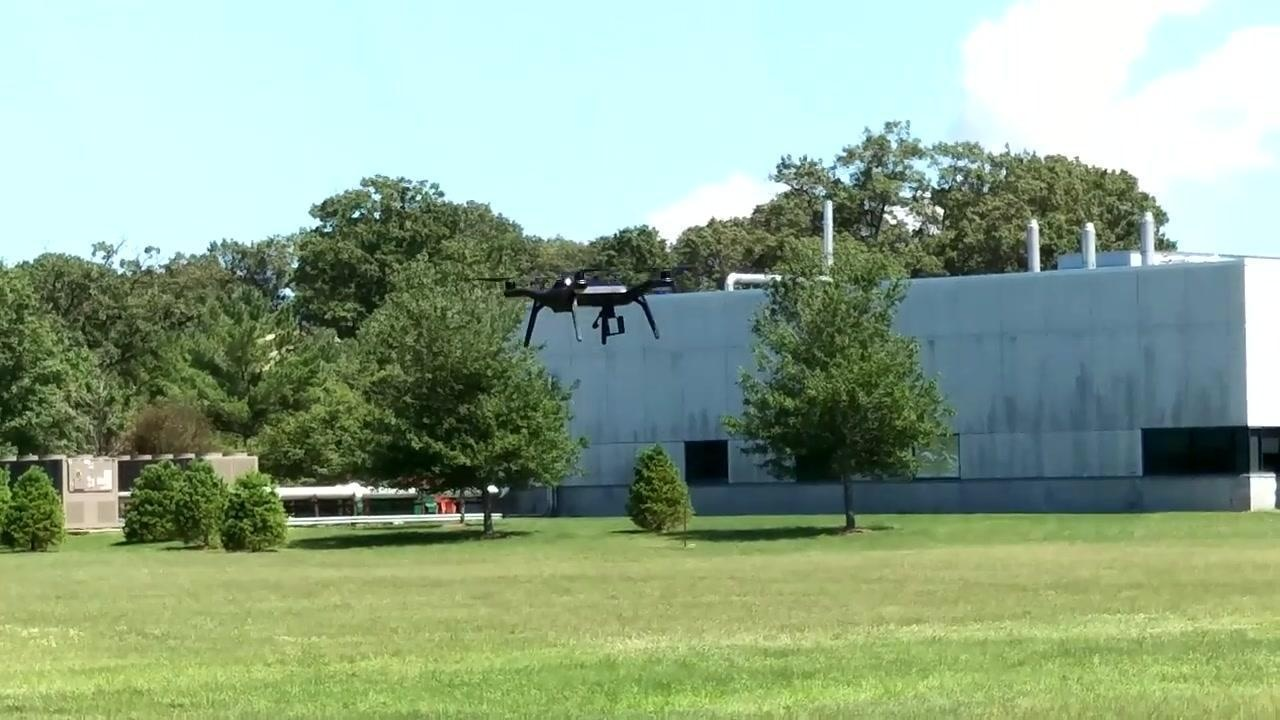UAV: (469, 267, 698, 349)
